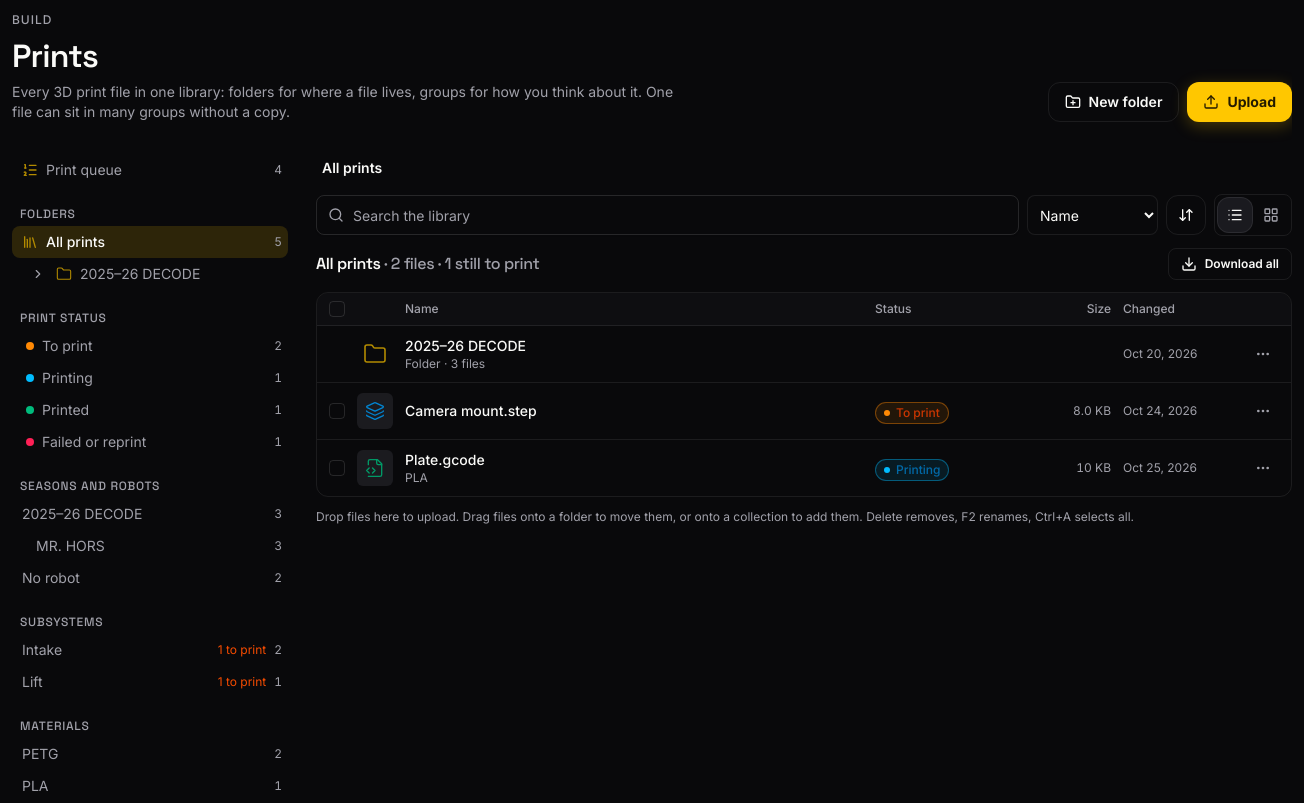
it: Prints explorer › searches the whole library
Expected: the heading "All prints · 2 files · 1 still to print" is shown, x1=316 y1=252 x2=539 y2=276
Type "roller" into the search field labelled "Search the library". click: point(668, 215)
box: x1=316 y1=195 x2=1019 y2=235
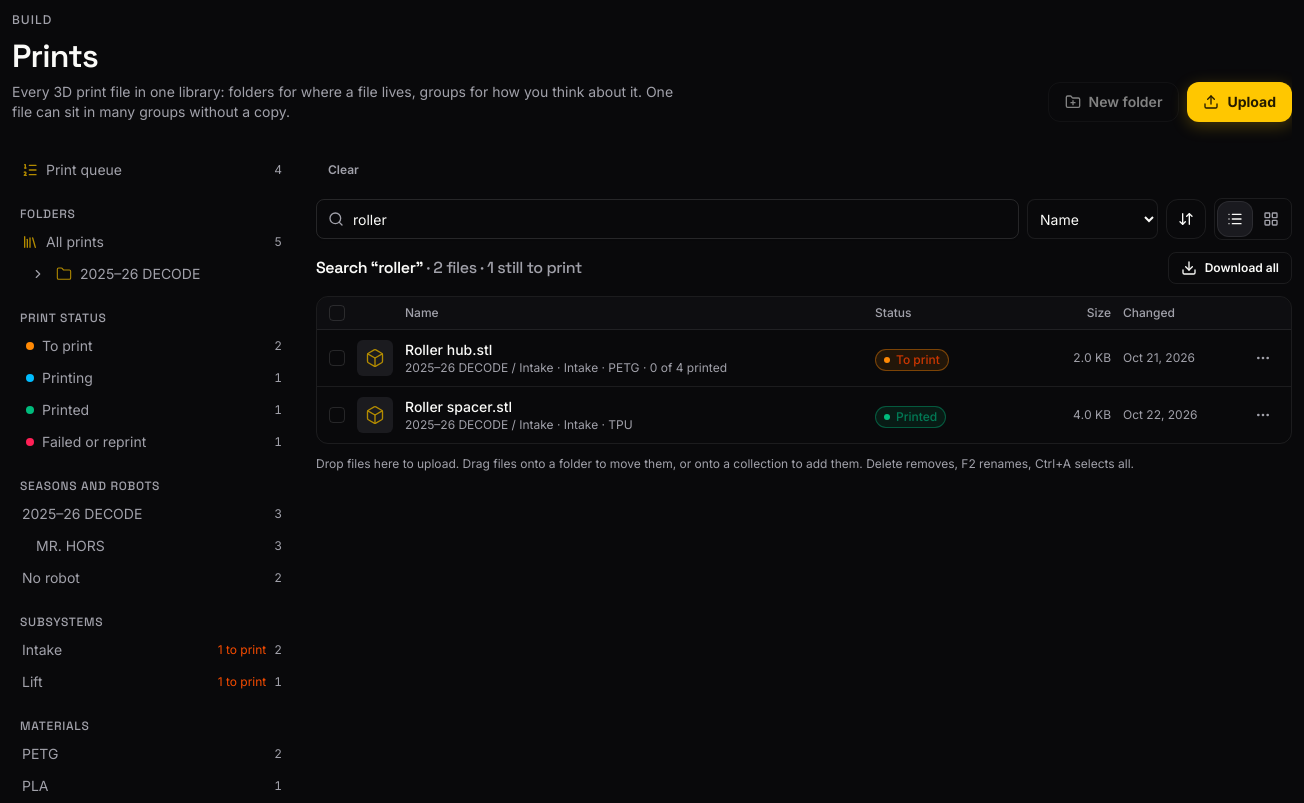
Now the heading "Search “roller” · 2 files · 1 still to print" is shown, box x1=316 y1=256 x2=582 y2=280
